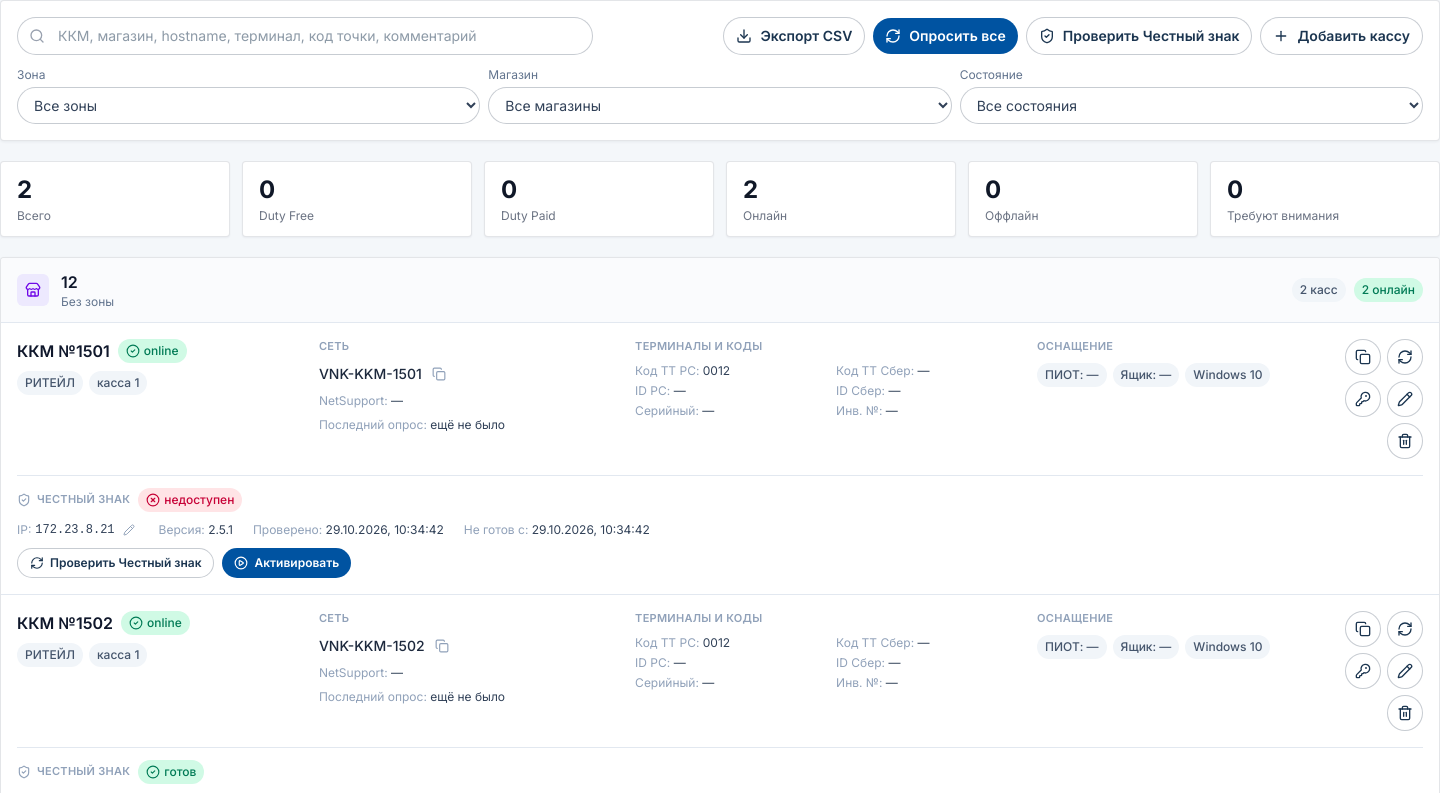
Test: CashRegistersPage Honest Sign › filters registers whose Honest Sign module is not ready
The width and height of the screenshot is (1440, 793).
Expected: the text "ККМ №1502" is shown, [17, 611, 113, 635]
Select "Честный знак не готов (1)" in the dropdown showing "Все состояния" at (1191, 106), box [960, 87, 1423, 124]
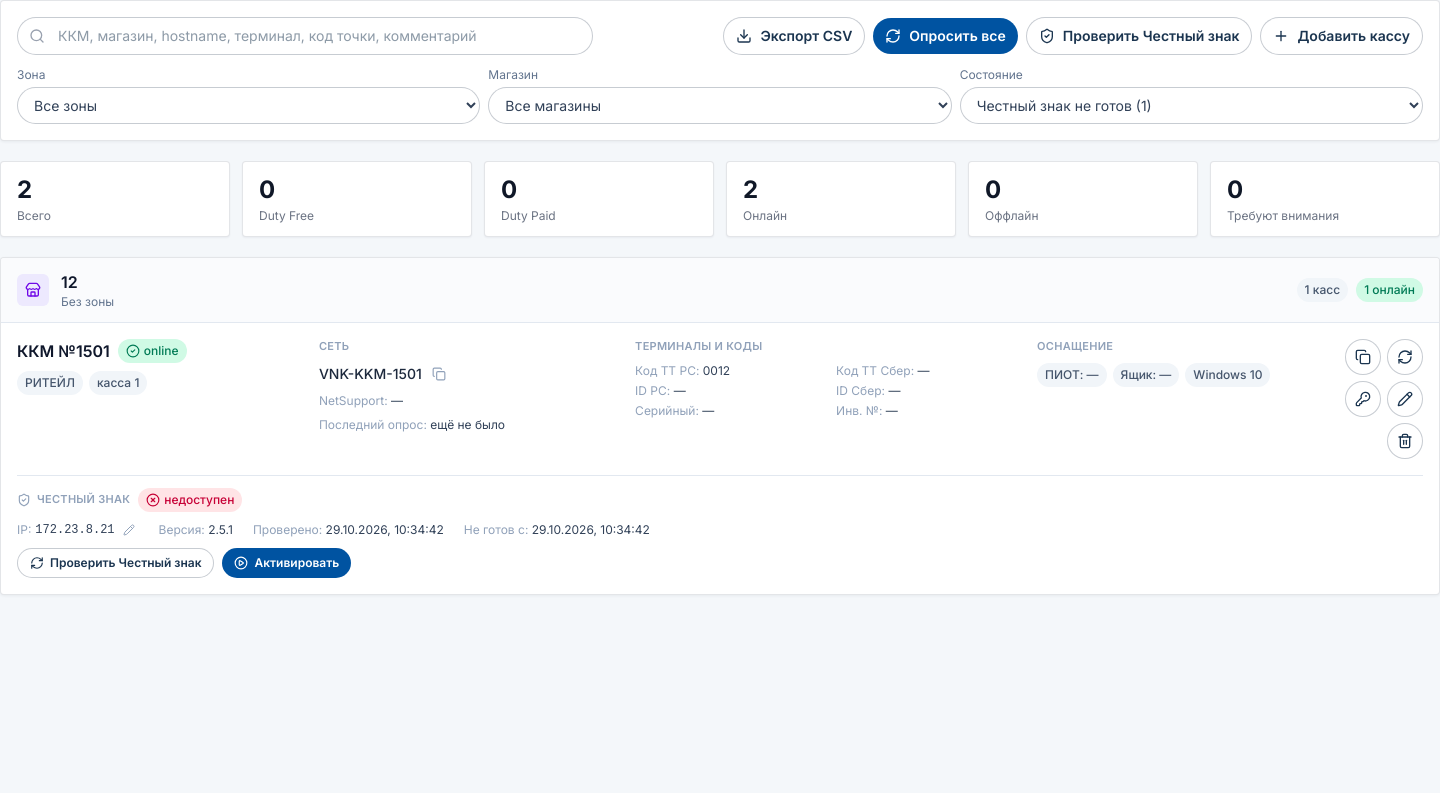
Expected: the text "ККМ №1501" is shown, [17, 339, 110, 363]
Result: the text "ККМ №1502" is gone
